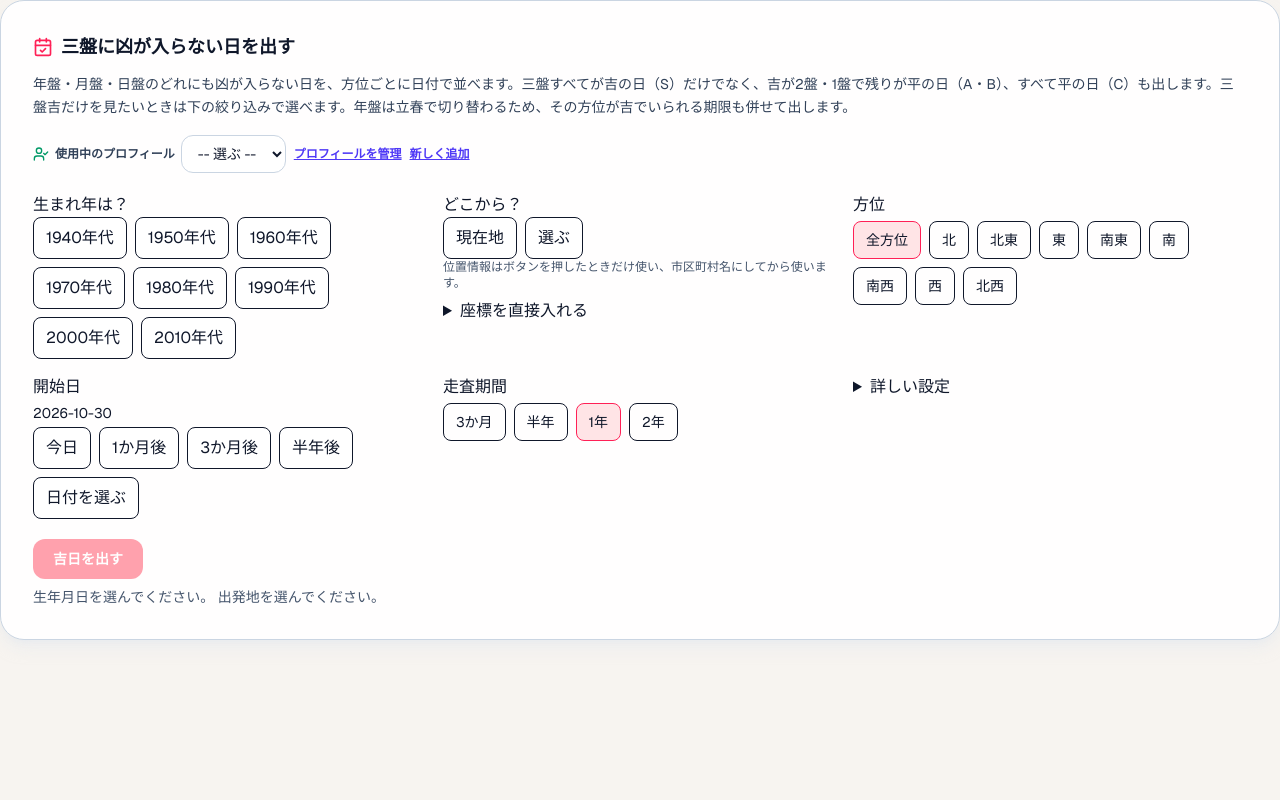
Test: /calendar: 保存したプロフィールを呼び出す › 選ぶと、生年月日と出発地の欄にそのプロフィールの値が入る
Select "名古屋駅" in the dropdown labelled "使用中のプロフィール" at (233, 154), box [181,134,286,172]
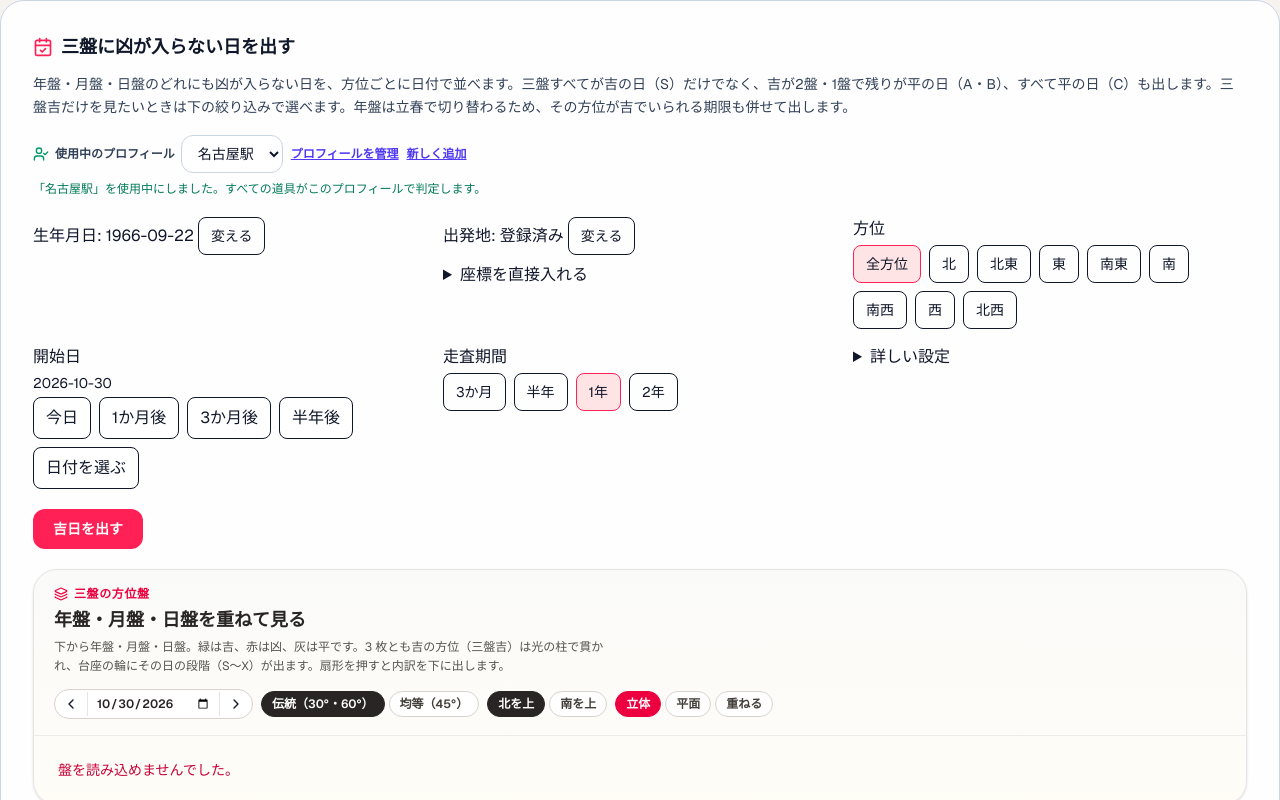
Now the text "生年月日: 1966-09-22 変える" is shown, box [33,216,266,254]
